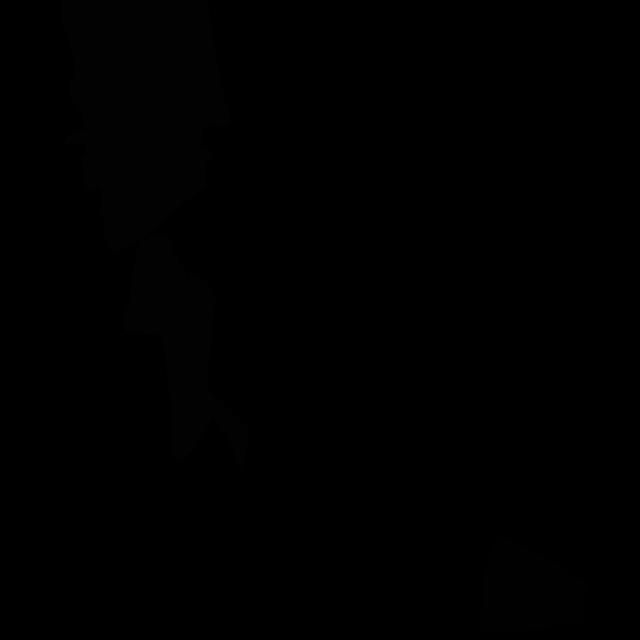cardboard: (60, 0, 232, 253), (124, 234, 250, 472)
rigid_plastic: (478, 536, 588, 633)
